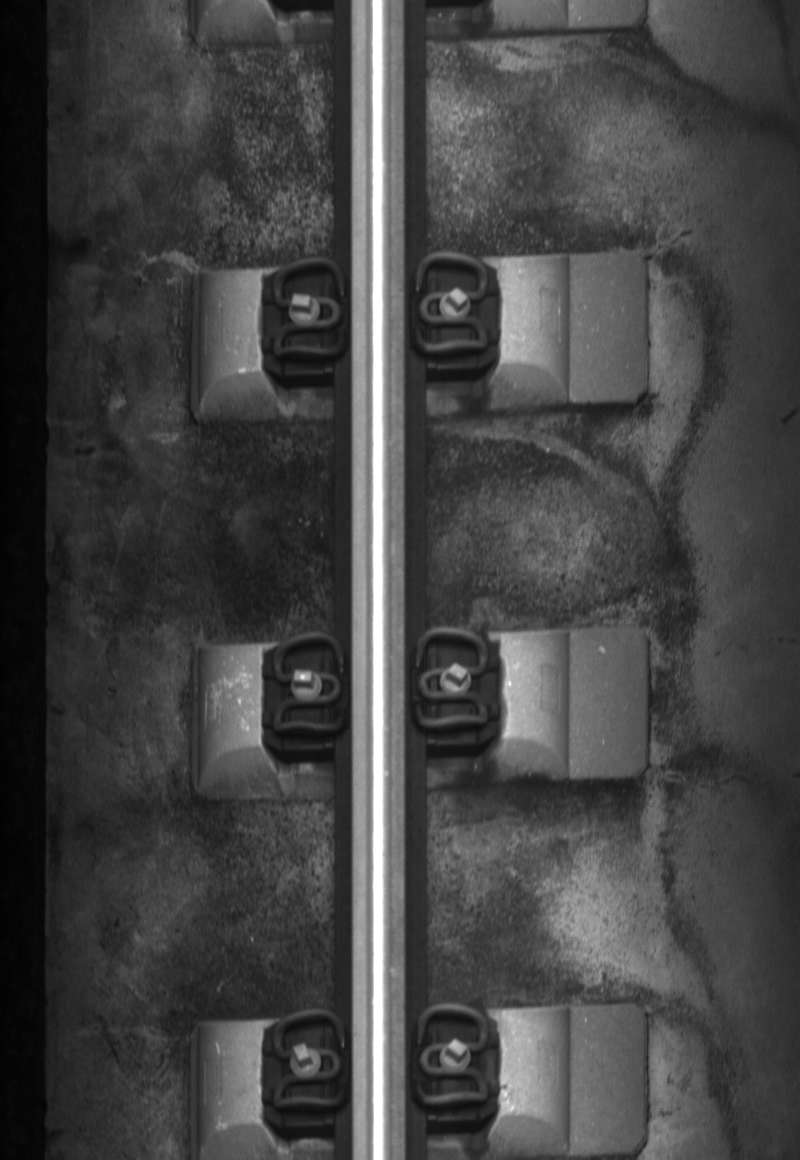l_faster: (268, 1003, 351, 1120), (267, 627, 349, 743), (268, 253, 349, 368)
r_faster: (408, 995, 494, 1117), (407, 620, 493, 738), (407, 247, 494, 363)
